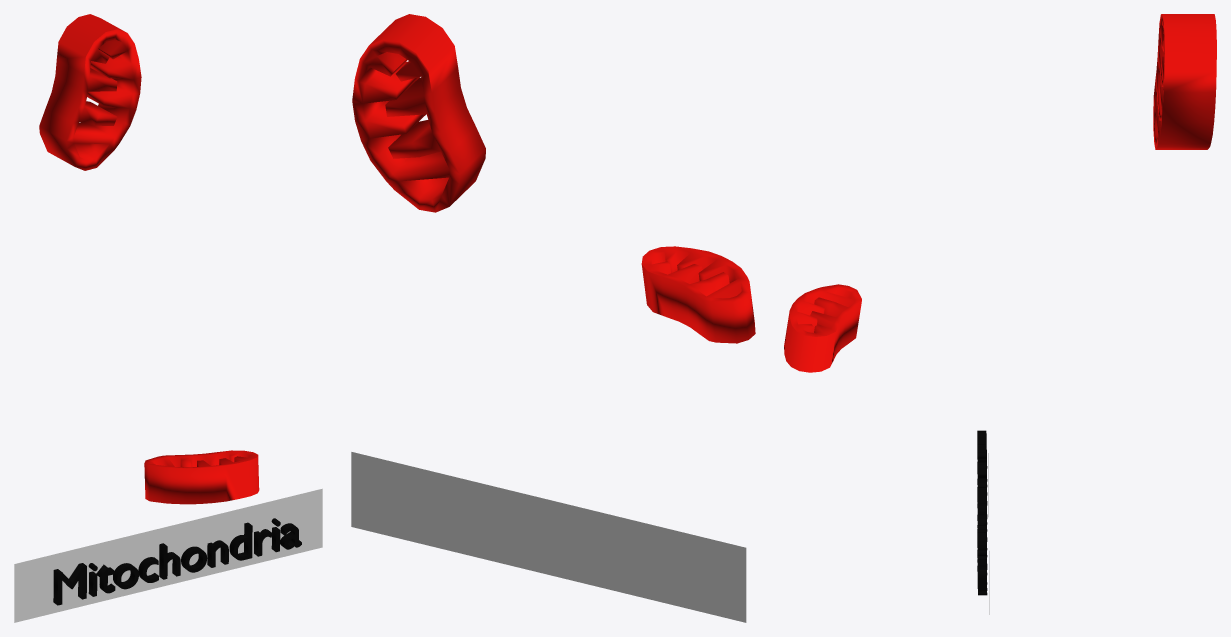
The model's file is mitochondria1.gltf.
3 views of the same model, side by side, from view 1: azimuth 30°, elevation 25°; view 2: azimuth 150°, elevation 25°; view 3: azimuth 270°, elevation 25° (orthographic). The views are drawn at different scales.
Visible parts, largest first — view 1: Amarillo_Interno.001, Plane.012, Text.017; view 2: Plane.012, Amarillo_Interno.001; view 3: Amarillo_Interno.001, Text.017.
Part boxes in pixels (x1=…): Amarillo_Interno.001: x1=39, y1=14, x2=259, y2=504; Plane.012: x1=14, y1=488, x2=322, y2=622; Text.017: x1=53, y1=518, x2=301, y2=605; Plane.012: x1=351, y1=452, x2=746, y2=622; Amarillo_Interno.001: x1=352, y1=14, x2=755, y2=343; Amarillo_Interno.001: x1=784, y1=14, x2=1216, y2=372; Text.017: x1=977, y1=430, x2=987, y2=595.
Bounding box in the file's own units: 1.33 × 2.03 × 1.48.
